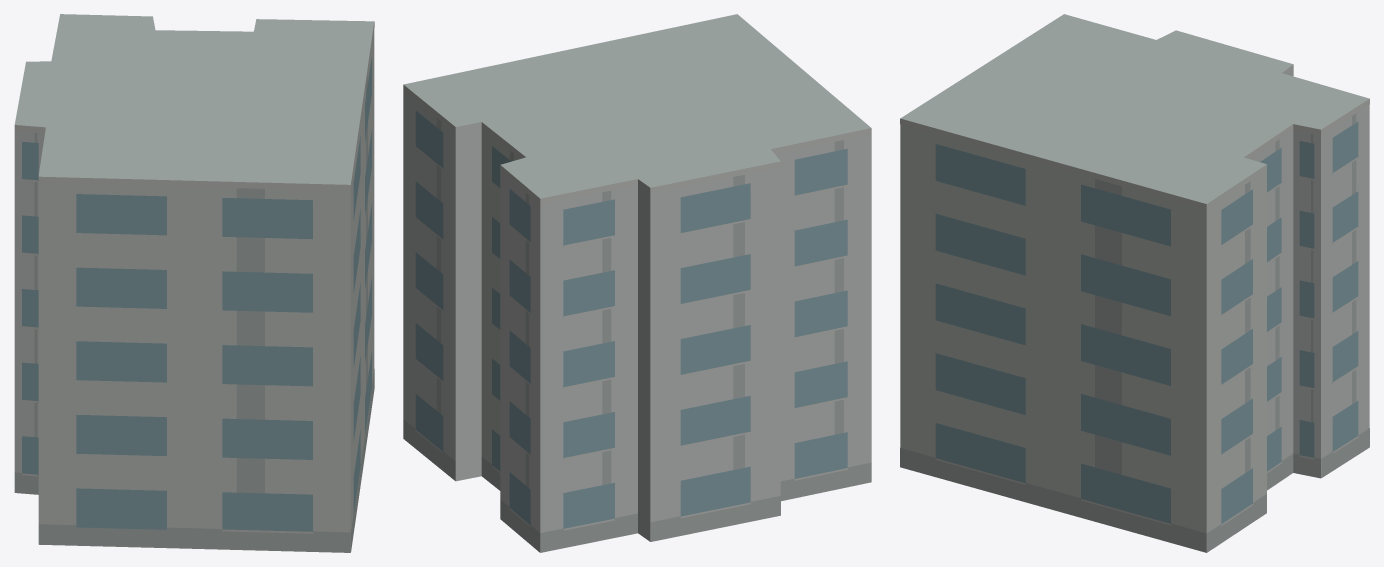
Rendered from survey-upis-32887669.glb.
3 views of the same model, side by side, from view 1: azimuth 30°, elevation 25°; view 2: azimuth 150°, elevation 25°; view 3: azimuth 270°, elevation 25° (orthographic). The views are drawn at different scales.
Visible parts, largest first — view 1: survey-upis-32887669.tmp; view 2: survey-upis-32887669.tmp; view 3: survey-upis-32887669.tmp.
Boxes of the visible parts, bbox=[...] form: survey-upis-32887669.tmp: bbox=[14, 14, 374, 552]; survey-upis-32887669.tmp: bbox=[403, 14, 871, 552]; survey-upis-32887669.tmp: bbox=[900, 14, 1369, 552].
Size of the model in its own units: 16.73 by 14.3 by 17.46.
